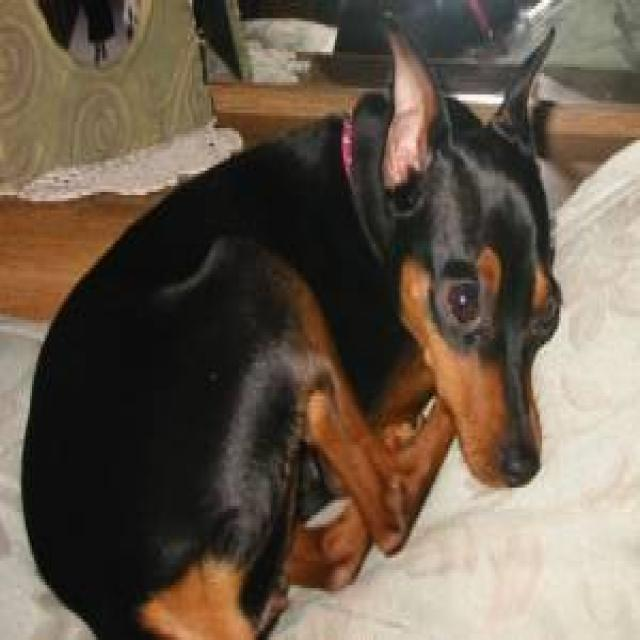dog-miniature_pinscher: (13, 18, 572, 634)
